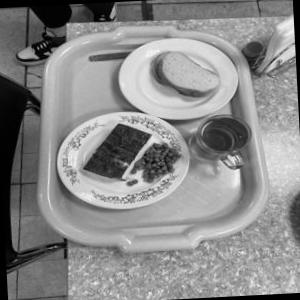bread: (146, 46, 224, 104)
casserole: (72, 106, 174, 202)
tea: (183, 116, 256, 180)
